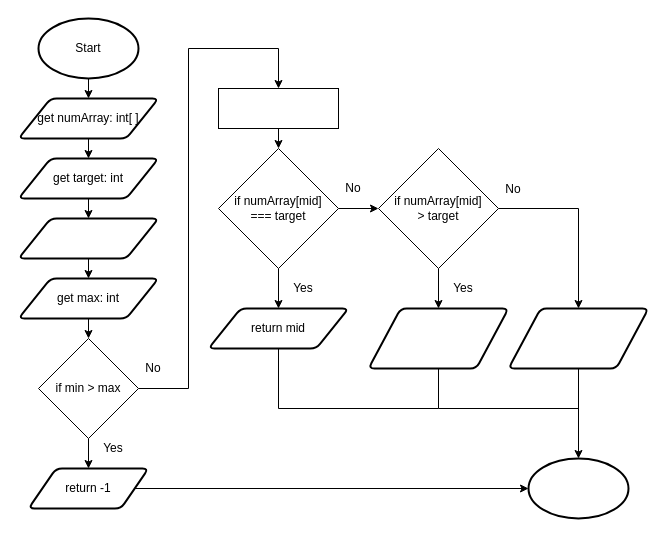
The diagram is 666 pixels wide and 536 high, and some of its shapes have lost their labels. Each missing label, with the box of its shape:
get min: int: (17, 217, 159, 259)
mid = Math.floor((min + max) / 2): (218, 88, 338, 128)
return binarySearch (numArray, target, mid + 1, max): (507, 307, 649, 369)
return binarySearch (numArray, target, min, mid - 1): (367, 307, 509, 369)
Stop: (527, 457, 629, 519)
